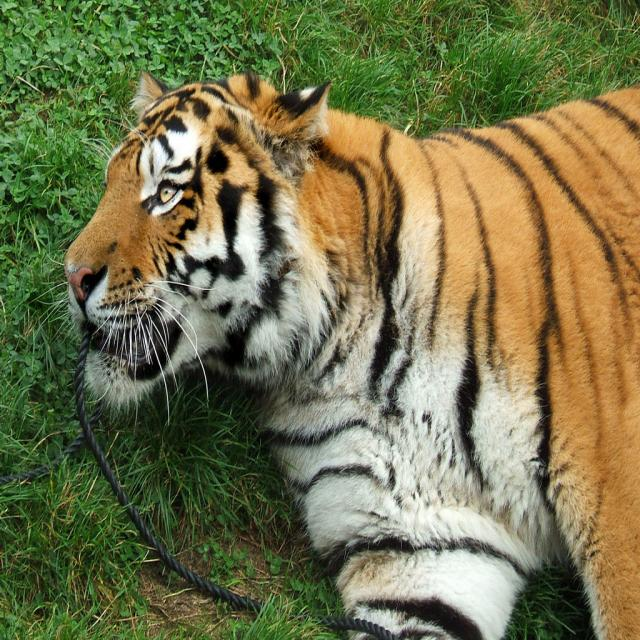Tiger: (28, 66, 640, 640)
